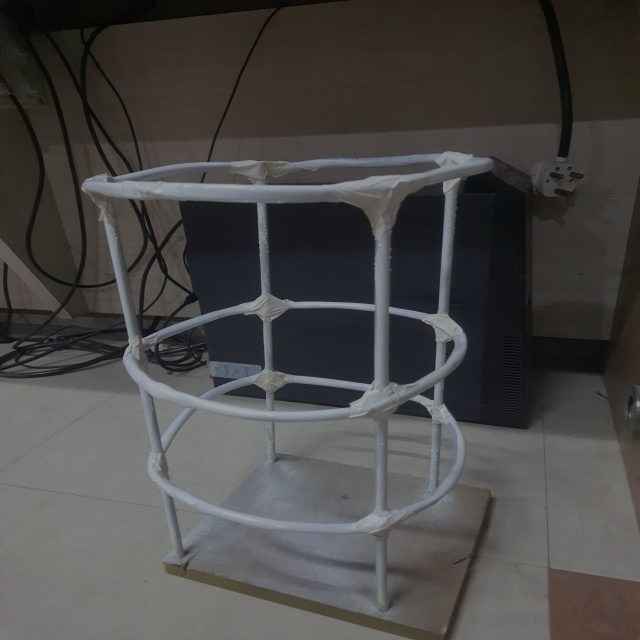silo: (102, 158, 458, 592)
